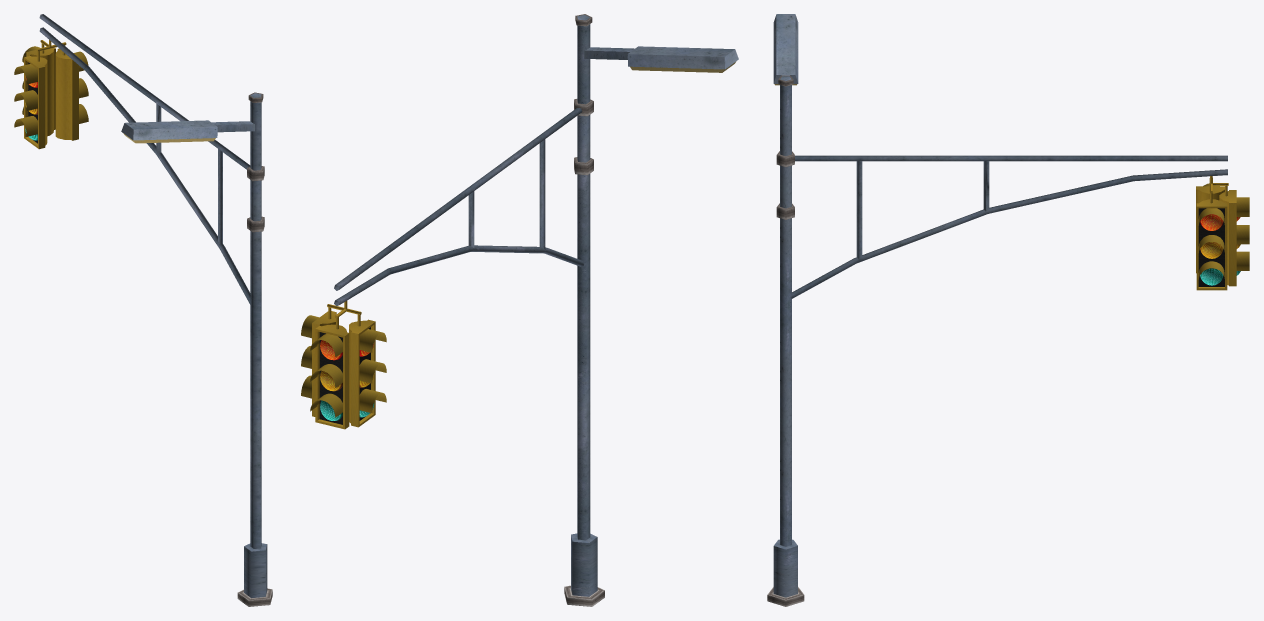
File: signal light3.FBX
3 views of the same model, side by side, from view 1: azimuth 30°, elevation 25°; view 2: azimuth 150°, elevation 25°; view 3: azimuth 270°, elevation 25° (orthographic). The views are drawn at different scales.
Parts seen in each view (by area): view 1: signal light3; view 2: signal light3; view 3: signal light3.
Boxes of the visible parts, left/top/right/bottom form: signal light3: left=14, top=14, right=272, bottom=606; signal light3: left=301, top=14, right=738, bottom=606; signal light3: left=767, top=14, right=1249, bottom=606.
Size of the model in its own units: 21.49 by 64.16 by 53.86.
